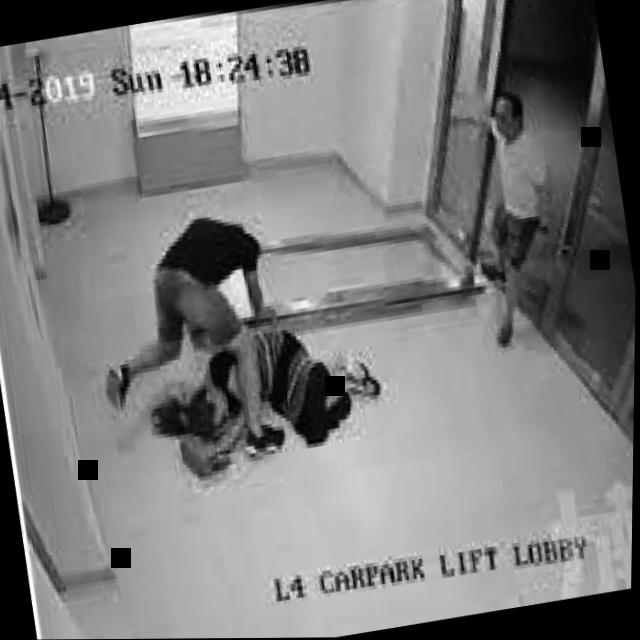Fall-Detected: (167, 278, 399, 475)
